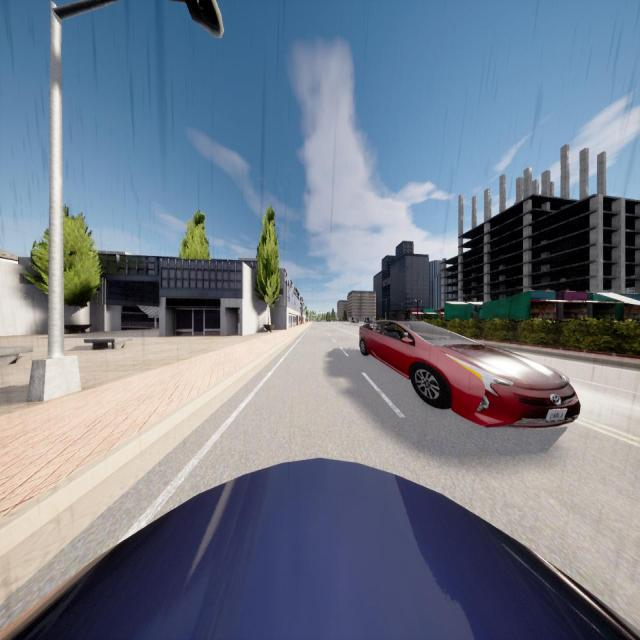Vehicle: (0, 455, 640, 640), (359, 320, 580, 427)
